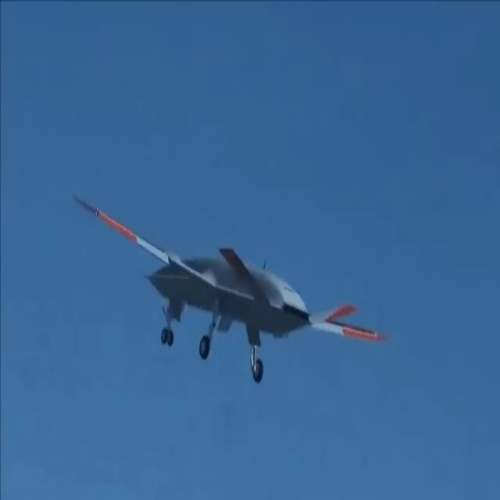uav1036: (74, 199, 389, 385)
